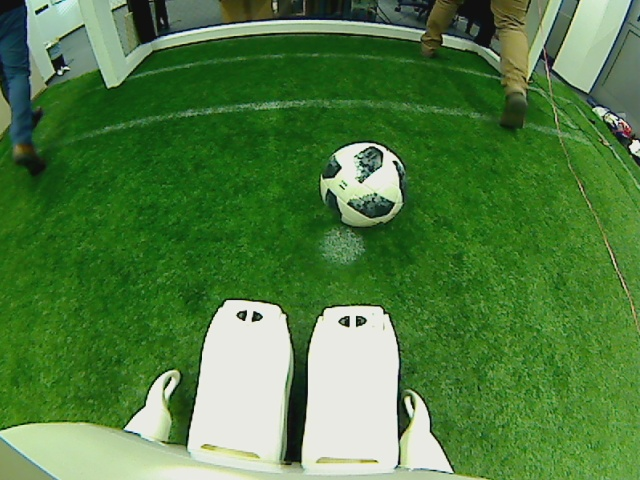ball: (318, 140, 409, 229)
